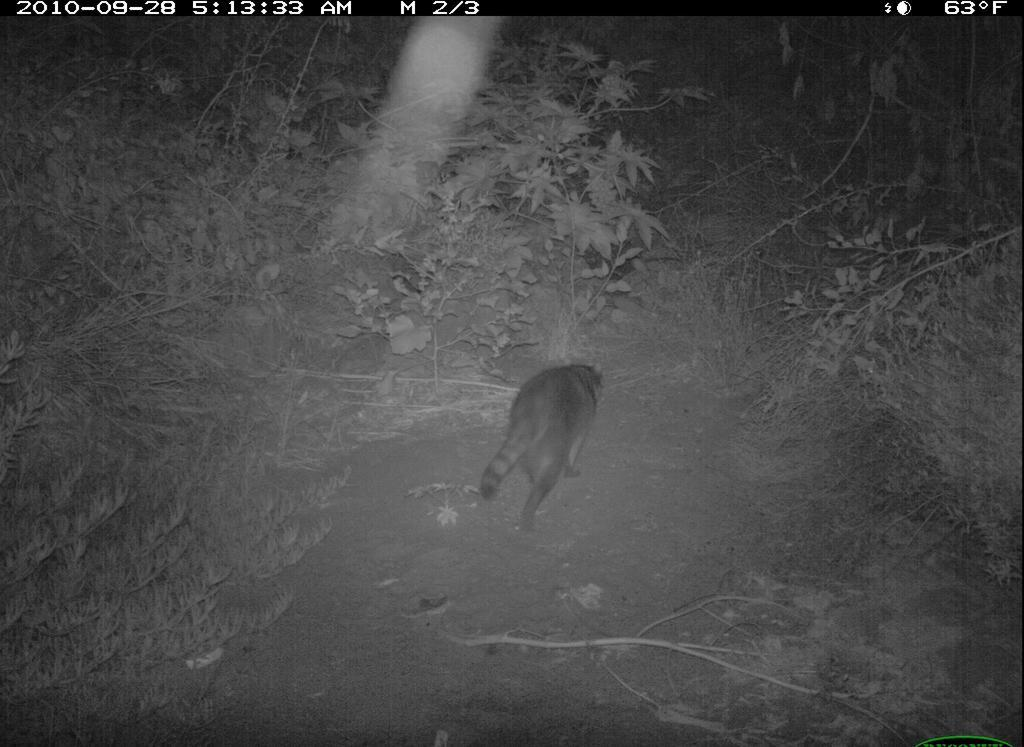raccoon: (465, 353, 632, 525)
